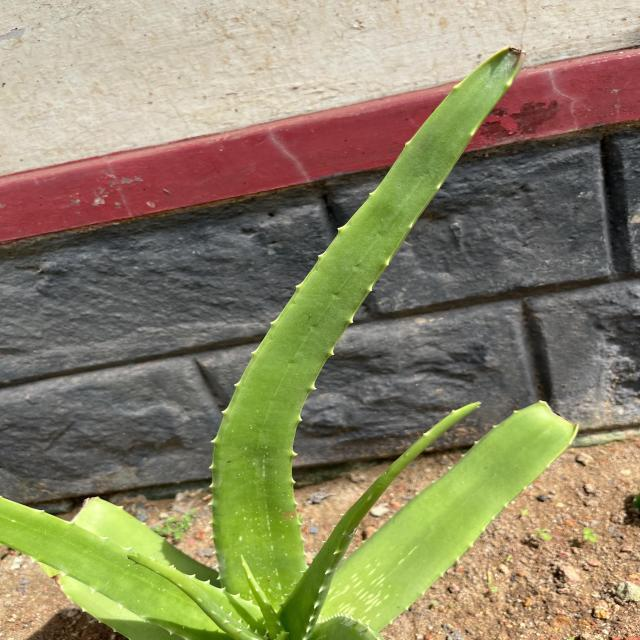Aloe vera: (195, 43, 527, 620)
